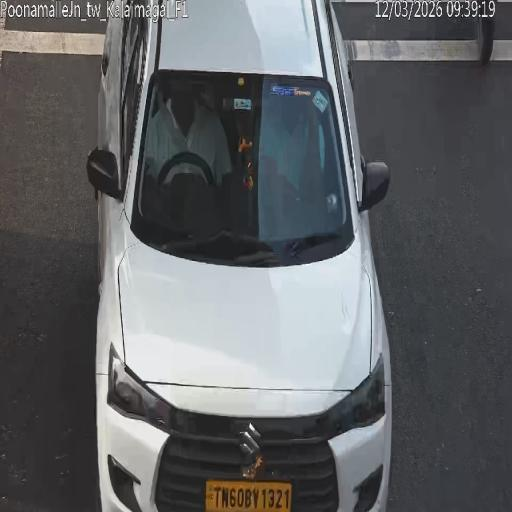person_with_seatbelt: (154, 86, 194, 182)
person_without_seatbelt: (265, 115, 305, 182)
